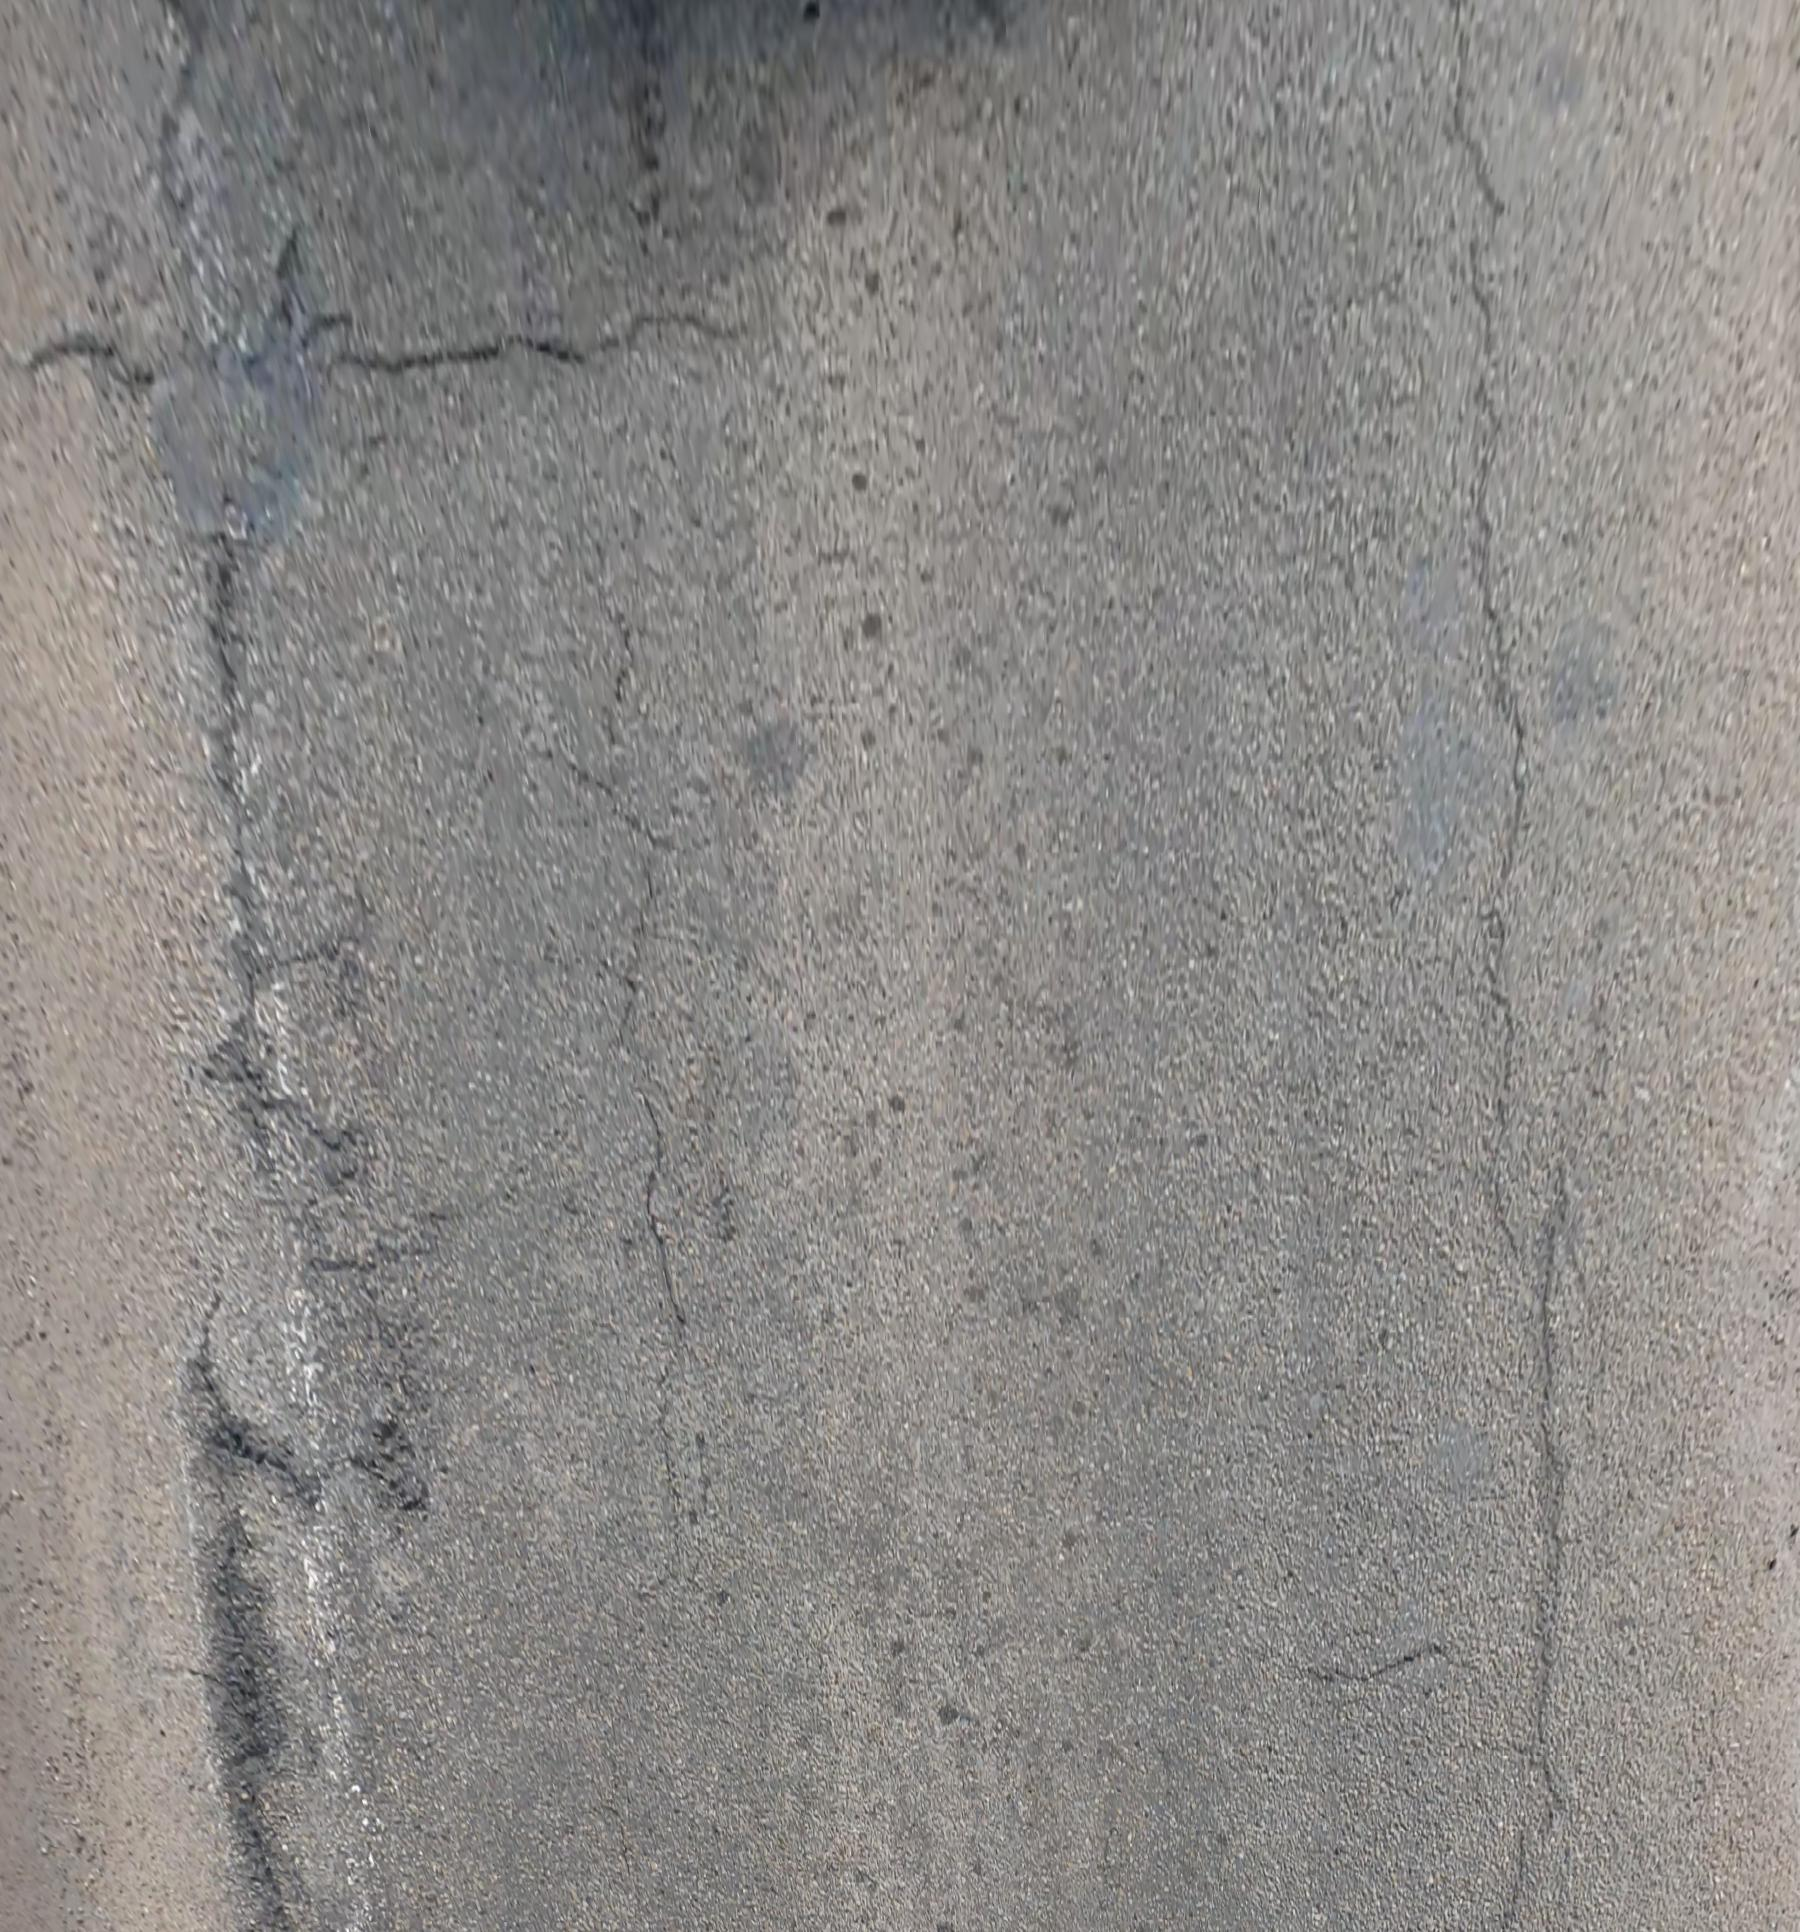pothole_patch_good: (149, 227, 333, 541)
